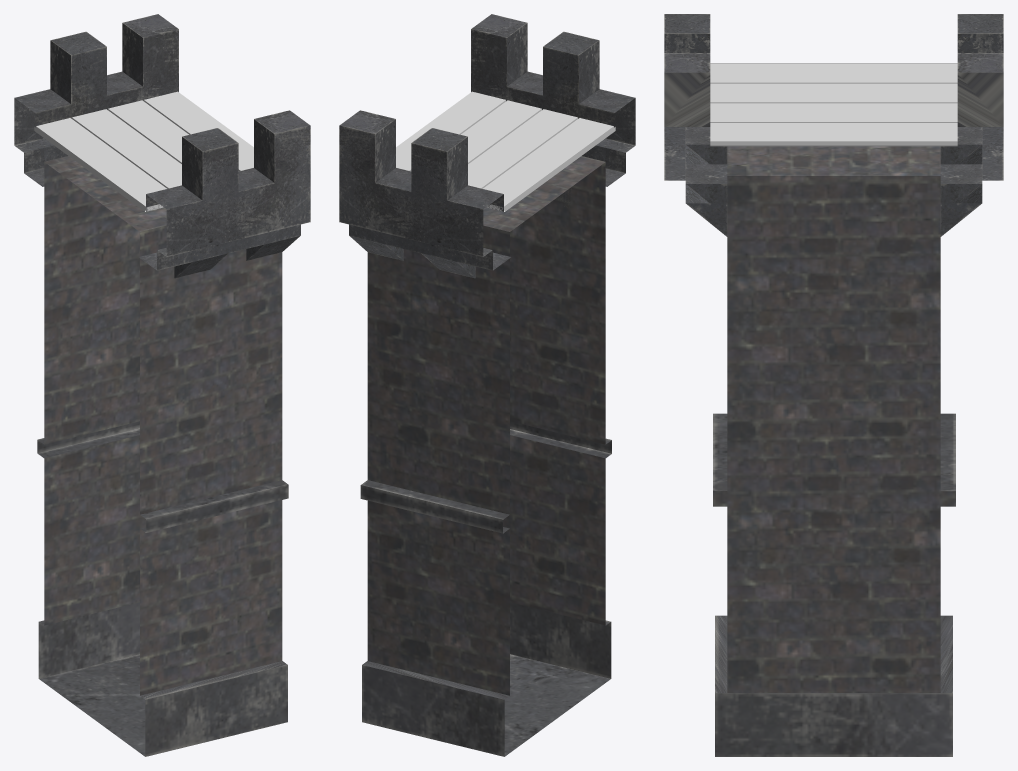
Rendered from wall_short.fbx.
3 views of the same model, side by side, from view 1: azimuth 30°, elevation 25°; view 2: azimuth 150°, elevation 25°; view 3: azimuth 270°, elevation 25° (orthographic). The views are drawn at different scales.
Visible parts, largest first — view 1: Muralla3.001; view 2: Muralla3.001; view 3: Muralla3.001.
Part boxes in pixels (<box>): Muralla3.001: <box>14,14,310,756</box>; Muralla3.001: <box>339,14,635,756</box>; Muralla3.001: <box>664,14,1003,756</box>.
Bounding box in the file's own units: 69.89 × 283 × 127.
3 materials, 2 textured.
